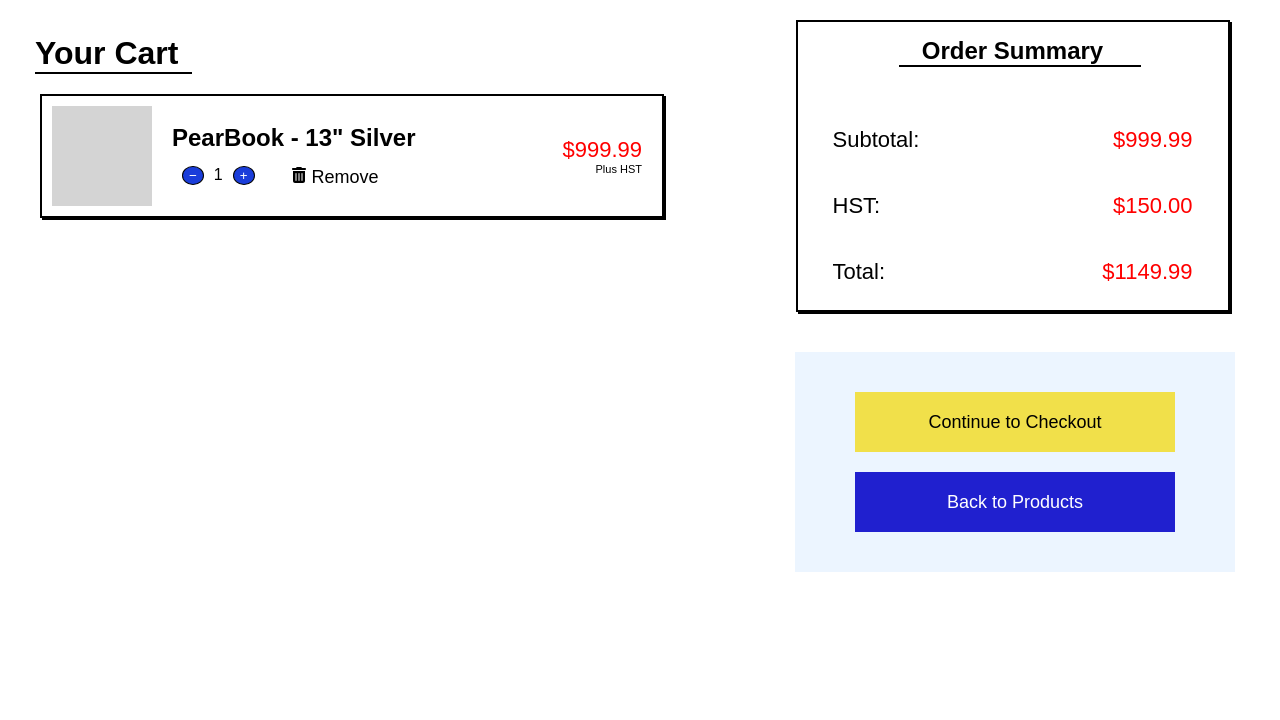
Test: removes item from cart
The image size is (1280, 720).
Click the button "Remove".
click(334, 177)  # box [284,166,384,188]
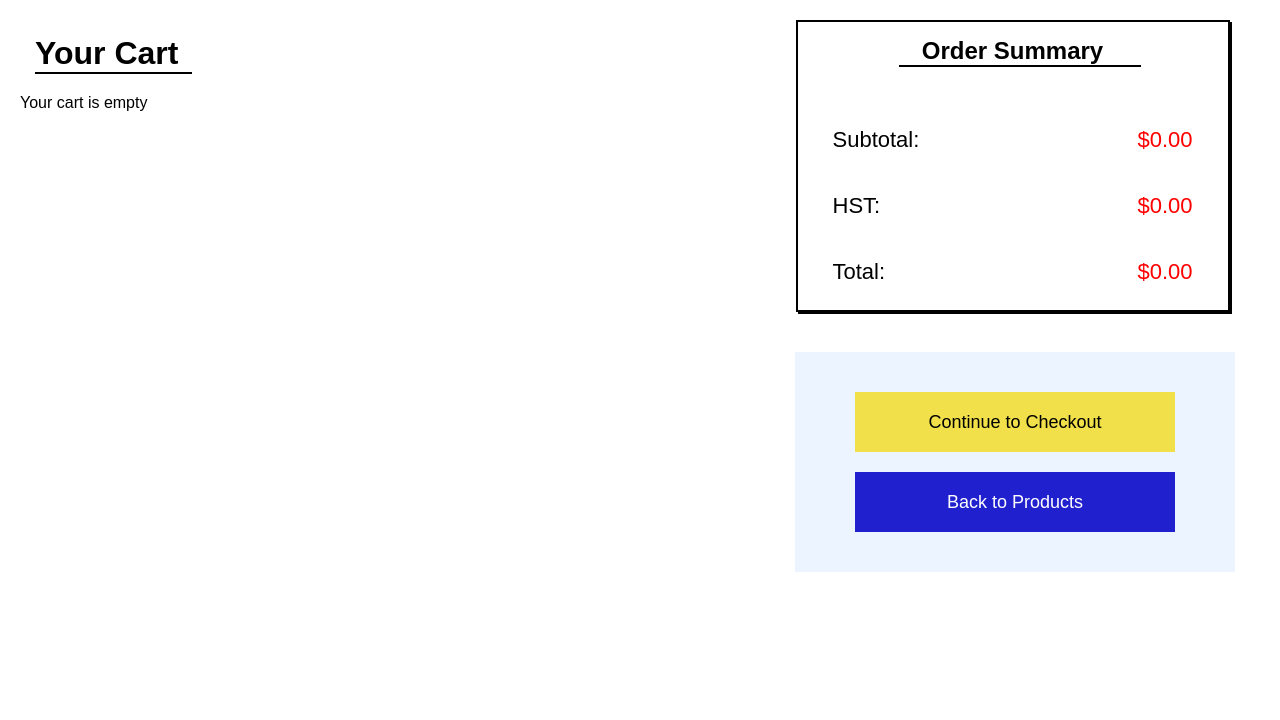
Expected: the button "Remove" is gone
